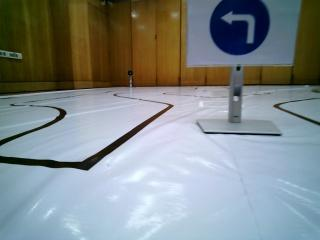left: (192, 0, 284, 56)
